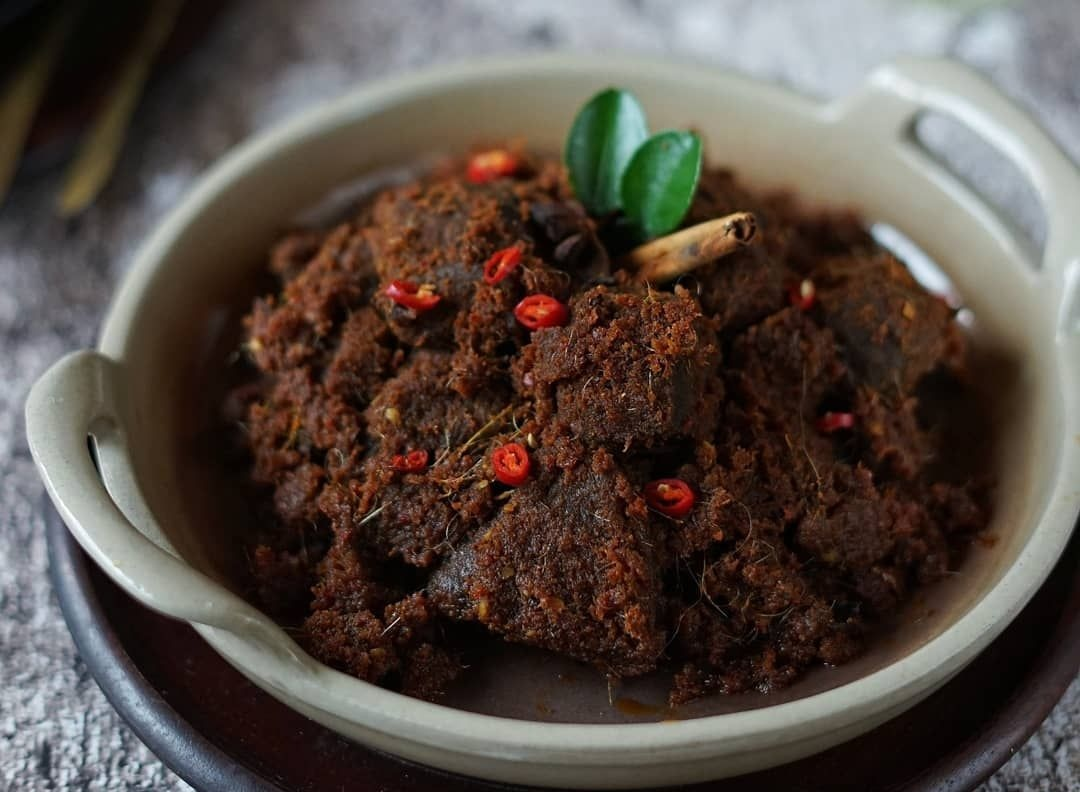rendang: (204, 205, 949, 680)
